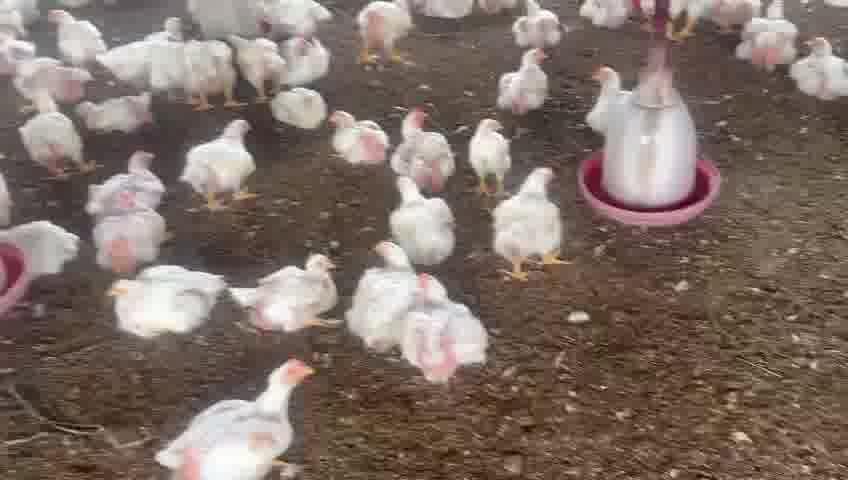Normal: (159, 358, 315, 480), (481, 161, 579, 281), (399, 270, 486, 388), (231, 255, 348, 335), (105, 265, 226, 338), (376, 165, 458, 262), (356, 233, 423, 349), (179, 121, 263, 210), (10, 91, 88, 173), (94, 194, 173, 273), (383, 101, 459, 181), (72, 153, 168, 210), (455, 116, 514, 198), (488, 49, 552, 123), (178, 31, 236, 109), (734, 0, 791, 76), (321, 105, 386, 171), (791, 36, 848, 108), (270, 76, 334, 140), (74, 86, 156, 135), (355, 0, 415, 65), (274, 34, 333, 86), (516, 0, 568, 58)
